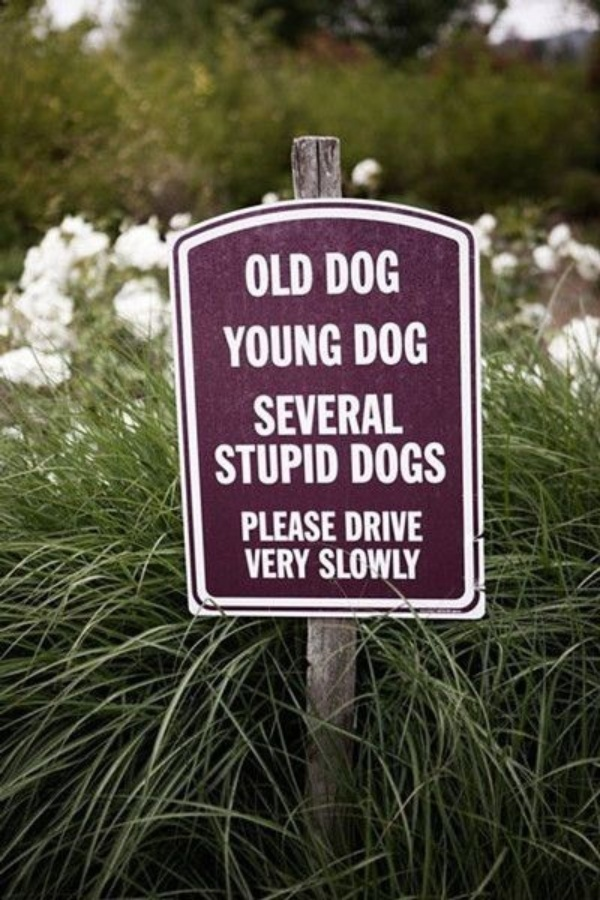text: (257, 251, 272, 301), (273, 251, 288, 301), (289, 251, 304, 301), (337, 248, 352, 298), (353, 248, 368, 298), (369, 248, 384, 298), (385, 248, 400, 298), (353, 320, 368, 368), (369, 320, 384, 368), (385, 320, 400, 368), (401, 320, 416, 368), (225, 323, 240, 370), (241, 323, 256, 370), (257, 323, 272, 370), (273, 323, 288, 370), (289, 323, 304, 370), (305, 323, 320, 370), (321, 323, 336, 370), (353, 440, 368, 487), (369, 440, 384, 487), (385, 440, 400, 487), (401, 440, 416, 487), (417, 440, 432, 487), (433, 440, 448, 487), (257, 392, 272, 437), (273, 392, 288, 437), (289, 392, 304, 437), (305, 392, 320, 437), (321, 392, 336, 437), (337, 392, 352, 437), (353, 392, 368, 437), (369, 392, 384, 437), (385, 392, 400, 437), (417, 320, 431, 368), (323, 248, 336, 298), (225, 442, 240, 485), (241, 442, 256, 485), (257, 442, 272, 485), (273, 442, 288, 485), (289, 442, 304, 485), (305, 442, 320, 485), (321, 442, 336, 485), (244, 251, 256, 301), (305, 251, 316, 301), (321, 547, 336, 583), (337, 547, 352, 583), (353, 547, 368, 583), (369, 547, 384, 583), (385, 547, 400, 583), (401, 547, 416, 583), (241, 509, 256, 544), (257, 509, 272, 544), (273, 509, 288, 544), (289, 509, 304, 544), (305, 509, 320, 544), (321, 509, 336, 544), (212, 442, 224, 485), (353, 511, 368, 544), (369, 511, 384, 544), (385, 511, 400, 544), (401, 511, 416, 544), (257, 548, 272, 580), (273, 548, 288, 580), (289, 548, 304, 580), (242, 548, 256, 580), (417, 511, 427, 544), (337, 323, 344, 370), (250, 392, 256, 437), (344, 511, 352, 544), (401, 248, 406, 298), (401, 392, 406, 437), (305, 548, 311, 580), (417, 547, 422, 583), (337, 442, 341, 485), (221, 323, 224, 370), (349, 440, 352, 487), (449, 440, 451, 487), (238, 509, 240, 544), (319, 547, 320, 583), (337, 509, 338, 544)
